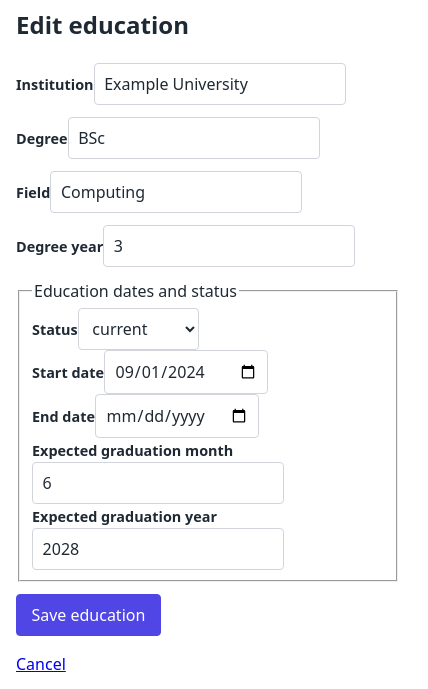
EducationEditorPage › treats a zero-row update as a missing entry
Expected: the field showing "Example University" is shown, [94,63,346,105]
Click the button "Save education". click: (88, 615)
box: [16,594,161,636]
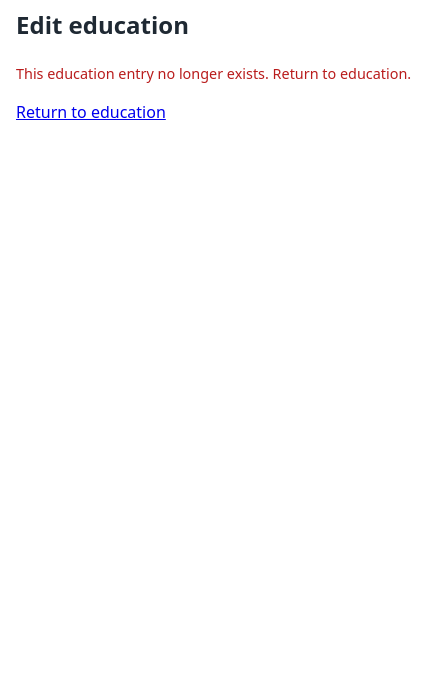
Now the text "This education entry no longer exists. Return to education." is shown, box [16,64,411,83]
Now the button "Save education" is gone
